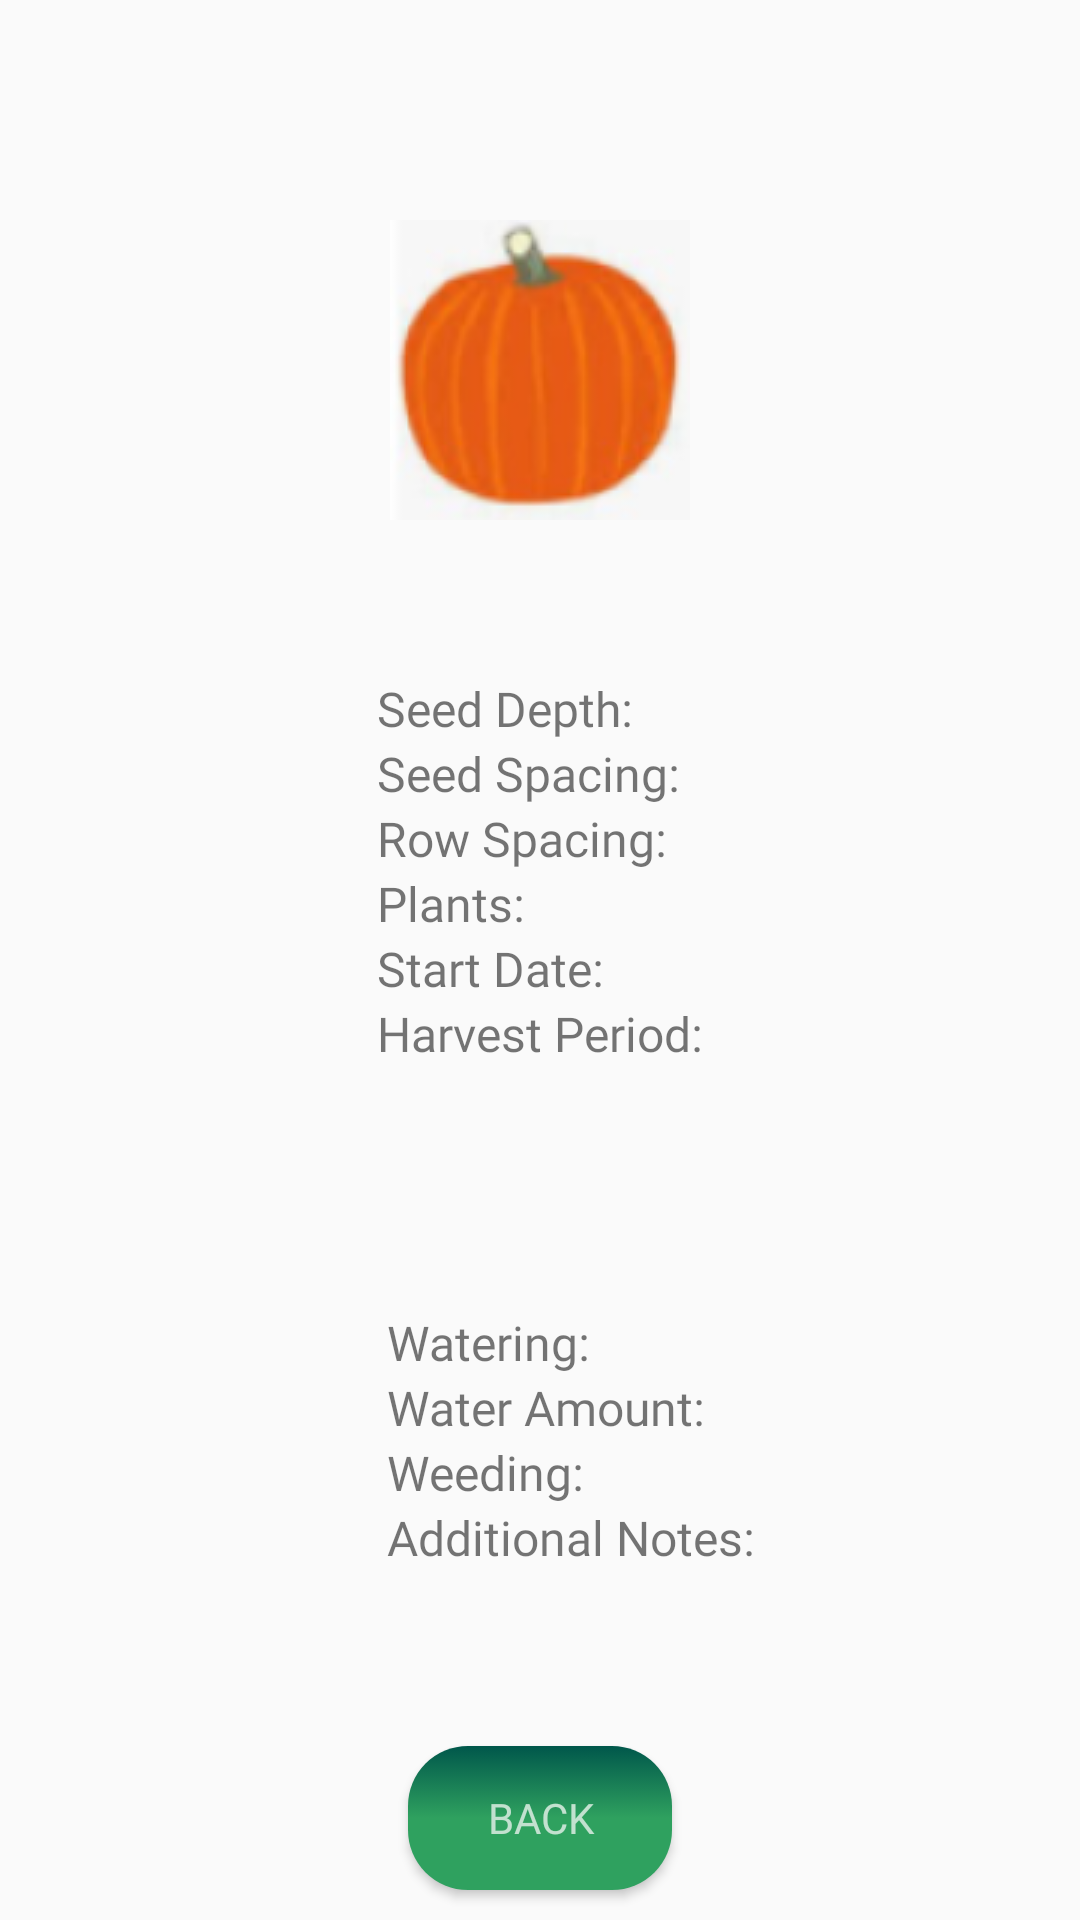

Locate icon controls on the screen. Image size 1080px×1920px, boxes as (x1, y1, x2, y2).
pumpkin: (398, 225, 680, 506)
